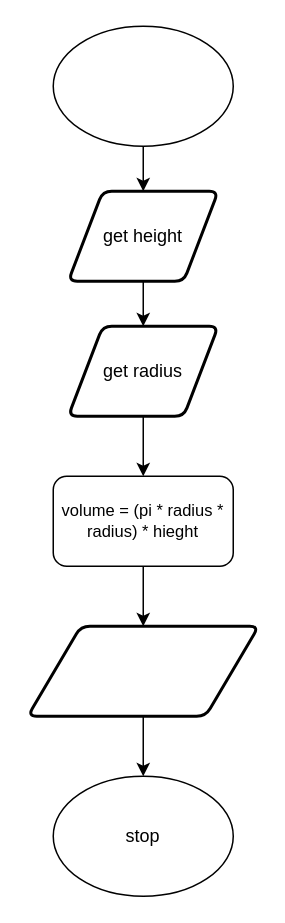
The diagram is 285 pixels wide and 923 high, and some of its shapes have lost their labels. The shapes that lost their labels are listed below. From the top down, each one's centre as x and y in pixels, then its label:
At [142,85]: "volume()".
At [143,670]: "show volume".
